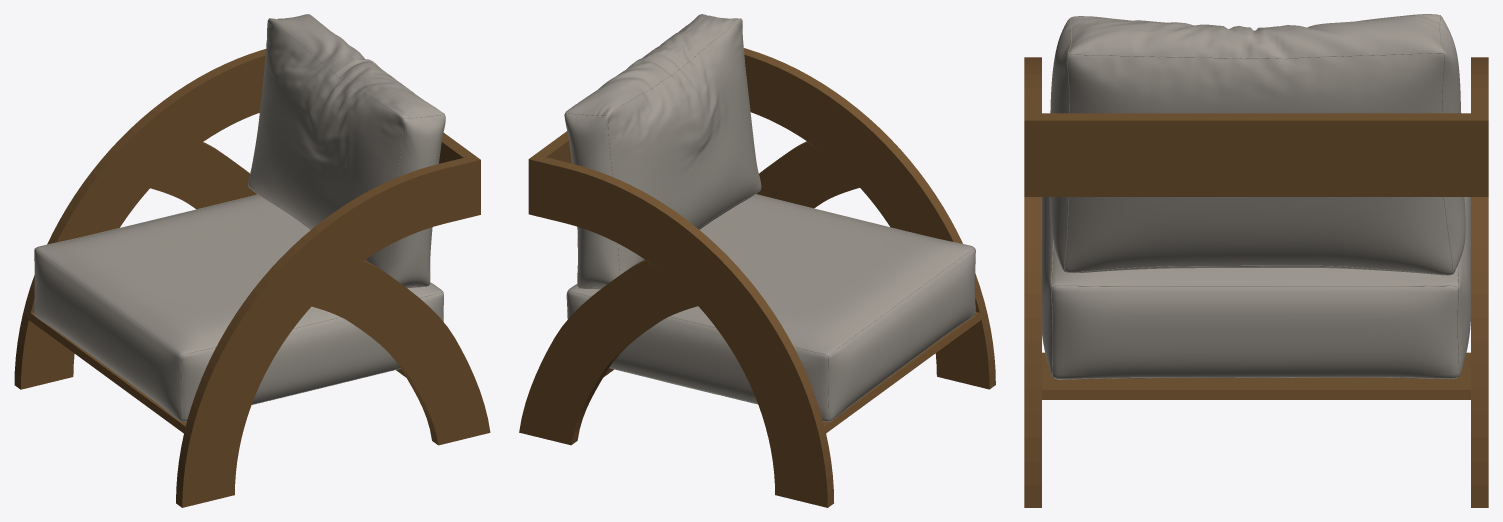
The model's file is chair-FBX.fbx.
3 views of the same model, side by side, from view 1: azimuth 30°, elevation 25°; view 2: azimuth 150°, elevation 25°; view 3: azimuth 270°, elevation 25° (orthographic). The views are drawn at different scales.
Parts seen in each view (by area): view 1: Box004, Box006, Line006, Line003, Arc003, Arc002, Rectangle001, Shape002, Line005; view 2: Box004, Box006, Line003, Line006, Arc002, Arc003, Rectangle001, Shape002, Line005; view 3: Box006, Box004, Line005, Rectangle002, Arc002, Arc003, Line003, Line006, Shape002.
Boxes of the visible parts, bbox=[...] form: Box004: bbox=[34, 194, 443, 421]; Box006: bbox=[248, 14, 445, 288]; Line006: bbox=[176, 155, 480, 507]; Line003: bbox=[14, 49, 265, 389]; Arc003: bbox=[312, 260, 490, 445]; Arc002: bbox=[150, 142, 257, 209]; Rectangle001: bbox=[29, 312, 186, 433]; Shape002: bbox=[34, 194, 443, 421]; Line005: bbox=[439, 132, 480, 208]; Box004: bbox=[567, 194, 975, 421]; Box006: bbox=[564, 14, 761, 289]; Line003: bbox=[528, 154, 833, 507]; Line006: bbox=[744, 48, 995, 389]; Arc002: bbox=[519, 260, 697, 445]; Arc003: bbox=[756, 141, 859, 208]; Rectangle001: bbox=[823, 312, 981, 433]; Shape002: bbox=[566, 194, 975, 421]; Line005: bbox=[528, 131, 571, 208]; Box006: bbox=[1049, 14, 1465, 275]; Box004: bbox=[1042, 113, 1470, 378]; Line005: bbox=[1024, 113, 1488, 196]; Rectangle002: bbox=[1042, 352, 1470, 399]; Arc002: bbox=[1471, 197, 1488, 507]; Arc003: bbox=[1024, 197, 1041, 507]; Line003: bbox=[1471, 57, 1488, 196]; Line006: bbox=[1024, 57, 1041, 196]; Shape002: bbox=[1051, 238, 1459, 379].
Bounding box in the file's own units: 72.31 × 72.94 × 68.18.
